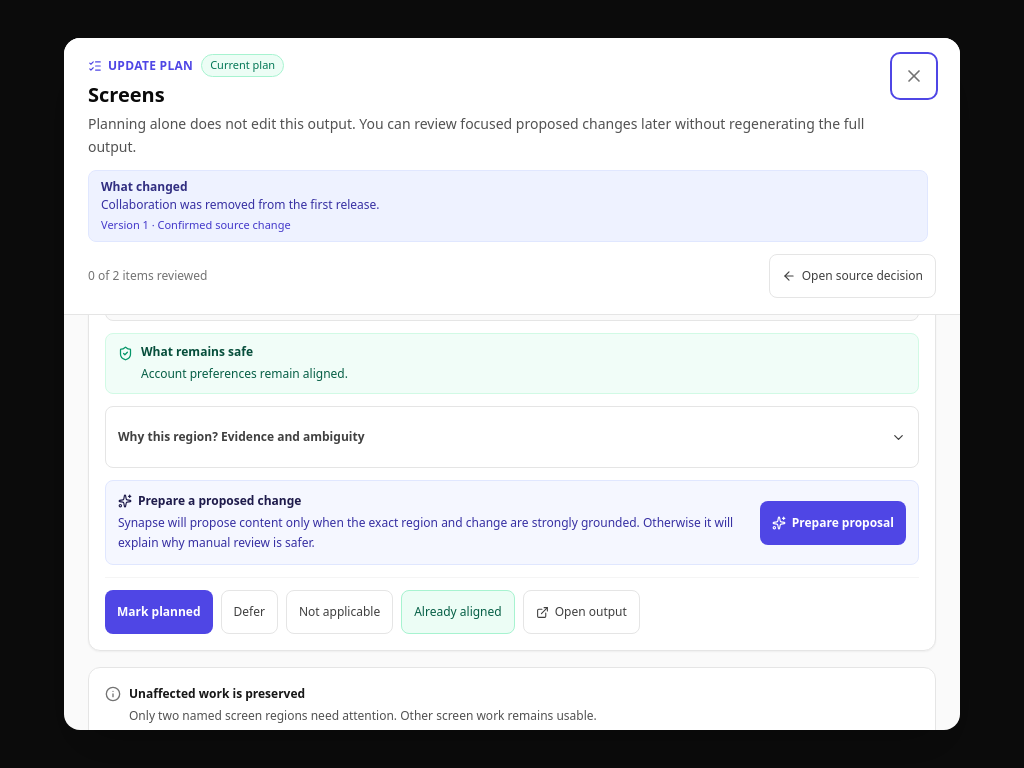
Test: DownstreamUpdatePlanReview › keeps review-only guidance non-applicable when evidence does not support an exact change
(page scrolled)
Click the button "Prepare proposal" at (833, 523), box x1=760 y1=501 x2=906 y2=545
(page scrolled)
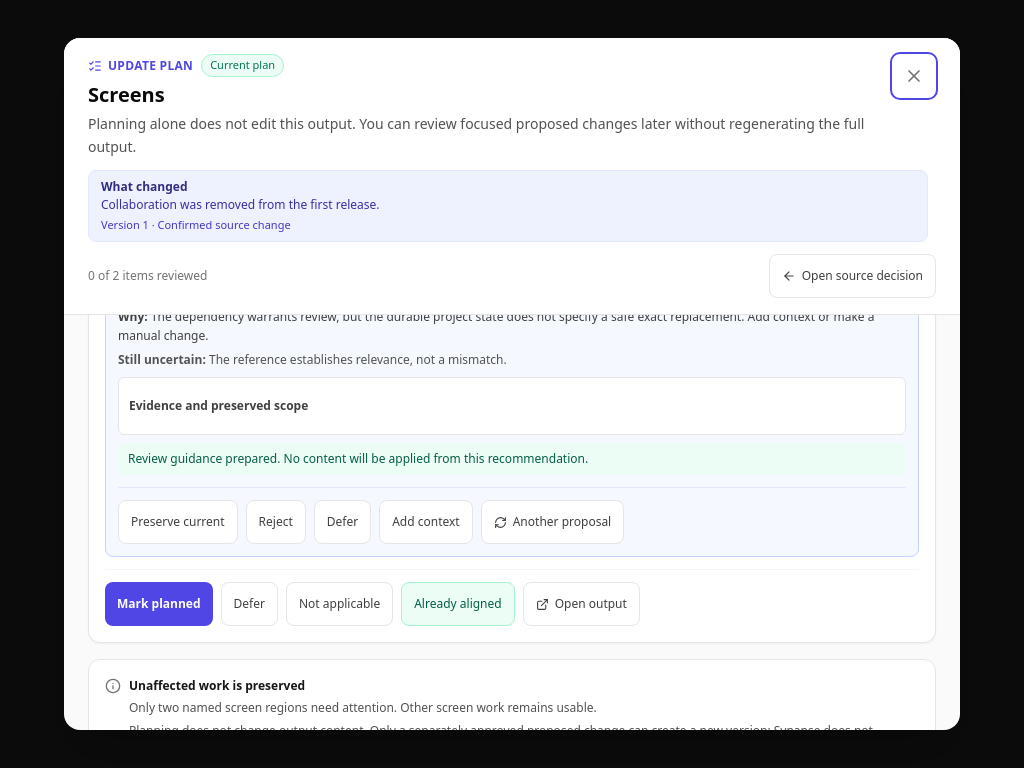
Check: the button "Add context" is shown, box x1=379 y1=500 x2=473 y2=544
